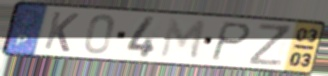0: (82, 13, 117, 56)
4: (124, 15, 159, 60)
K: (41, 10, 81, 54)
M: (157, 17, 208, 62)
P: (208, 20, 254, 63)
Z: (247, 22, 293, 68)
